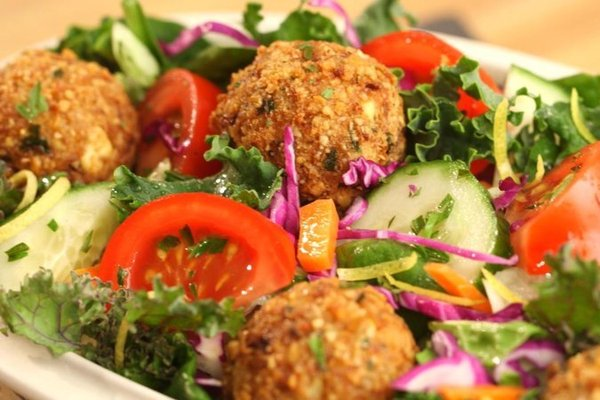curry: (55, 1, 259, 101)
